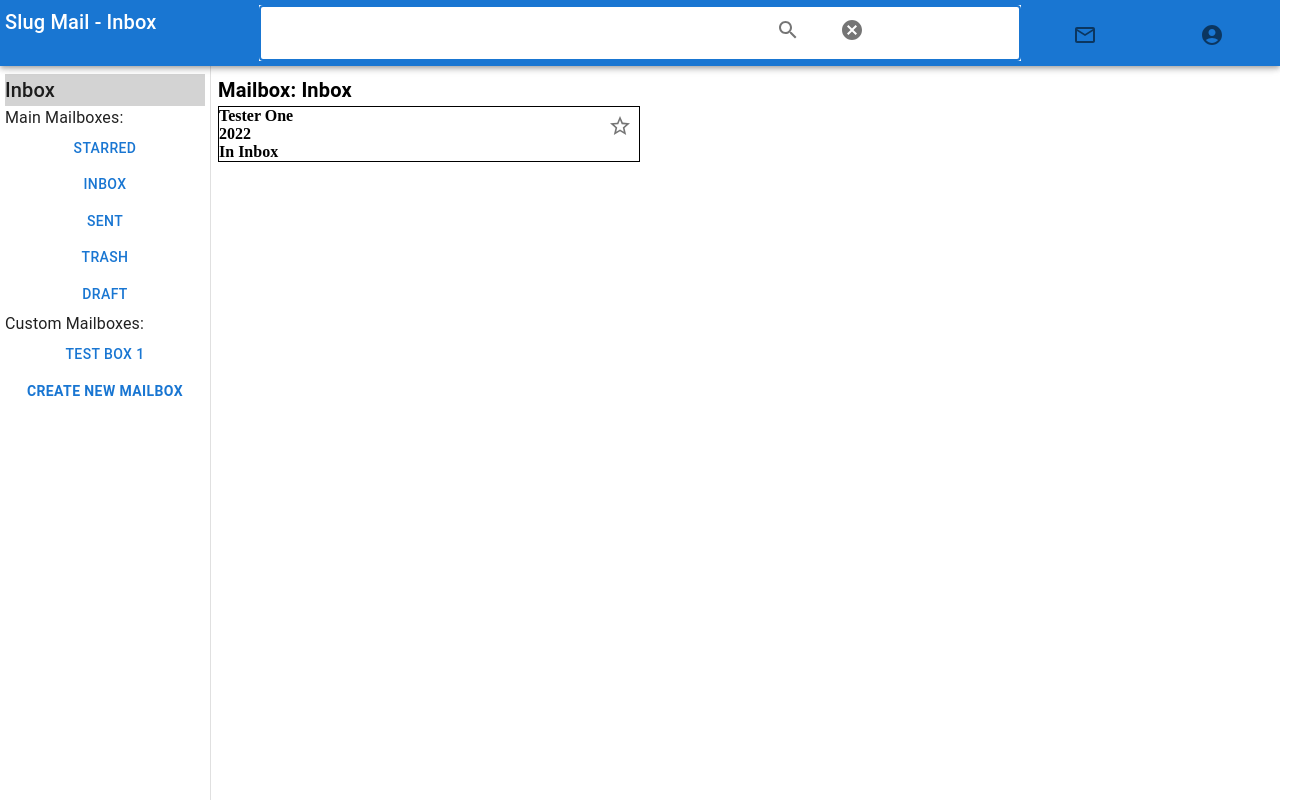
Test case: click on close and reread
Expected: the text "Mailbox: Inbox" is shown, [218,78,352,102]
Click the text "Tester One".
click(256, 116)  # box [219,107,293,124]
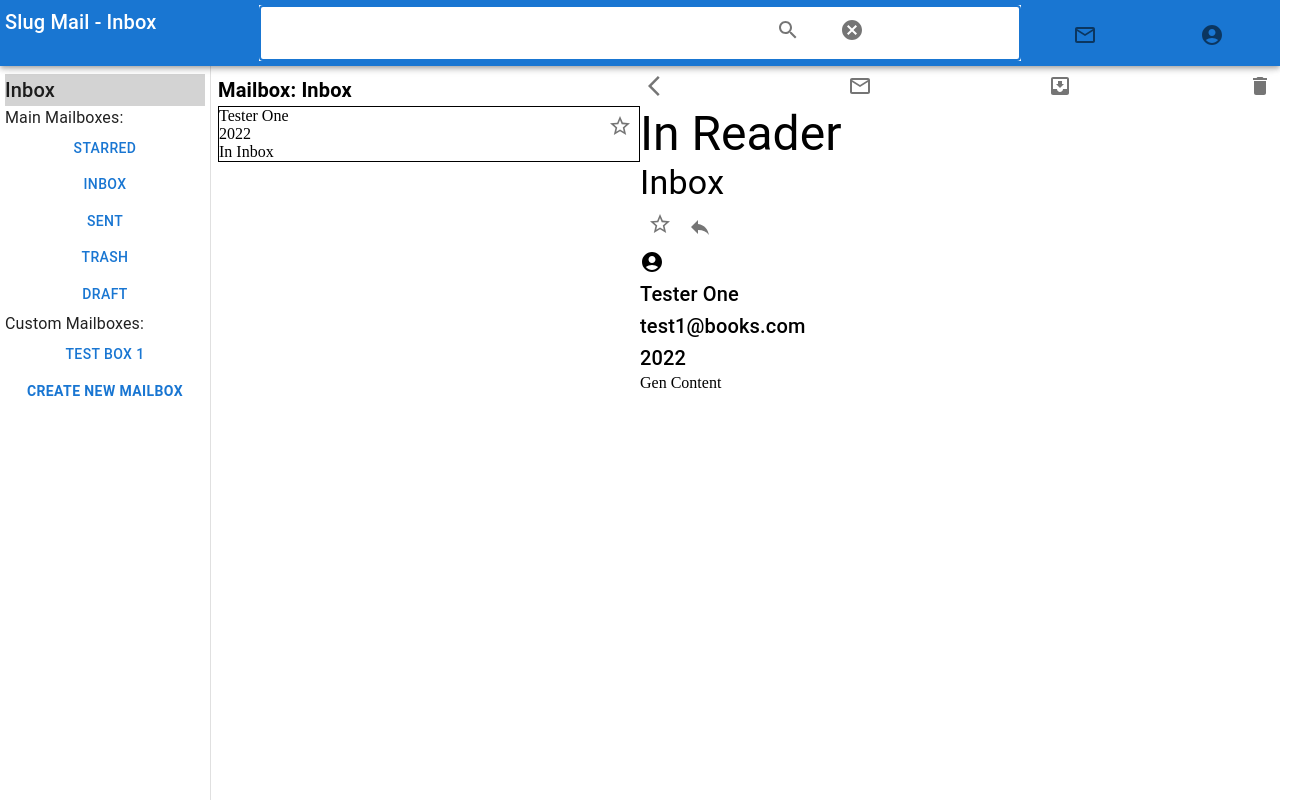
Expected: the text "Gen Content" is shown, [640,374,721,391]
Click the button named "closeEmail".
click(660, 86)  # box [640,66,680,106]
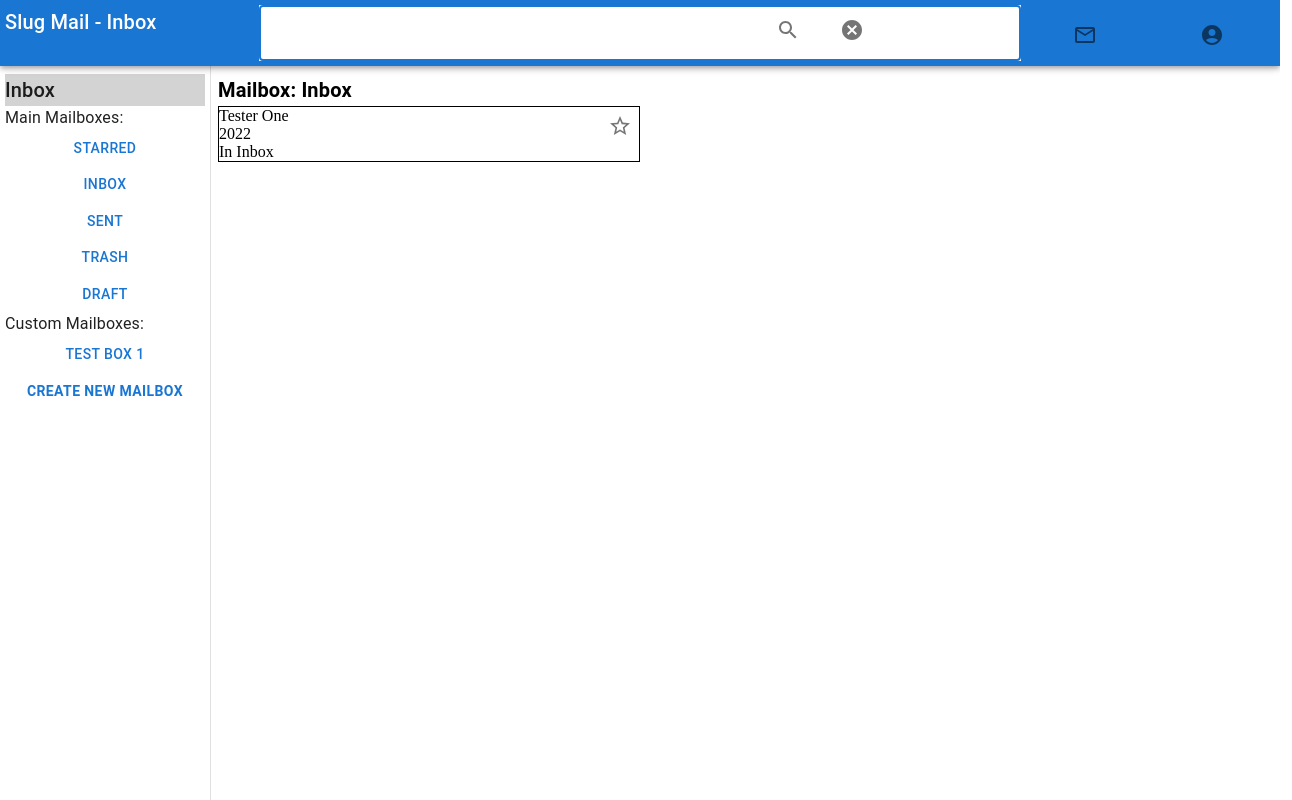
Click the text "Tester One".
click(254, 116)  # box [219,107,288,124]
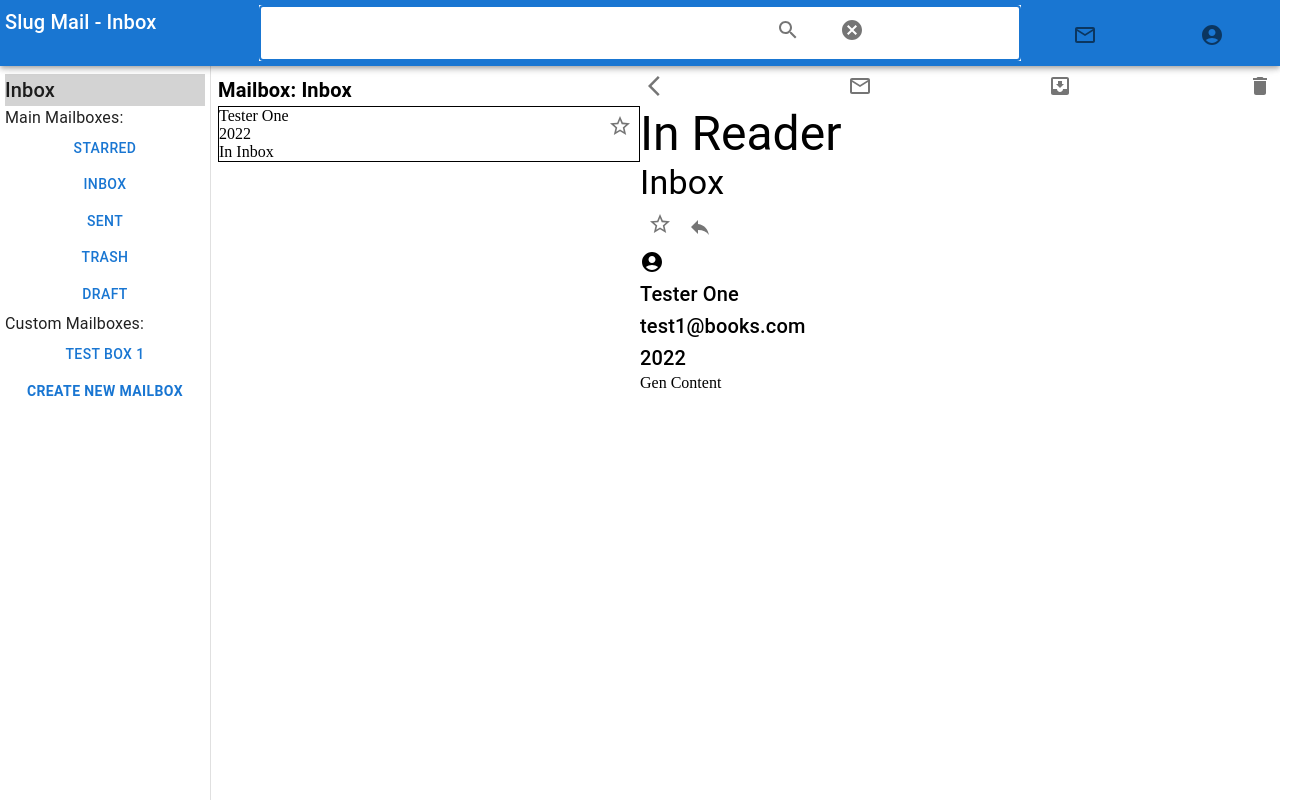
Expected: the text "Gen Content" is shown, [640,374,721,391]
